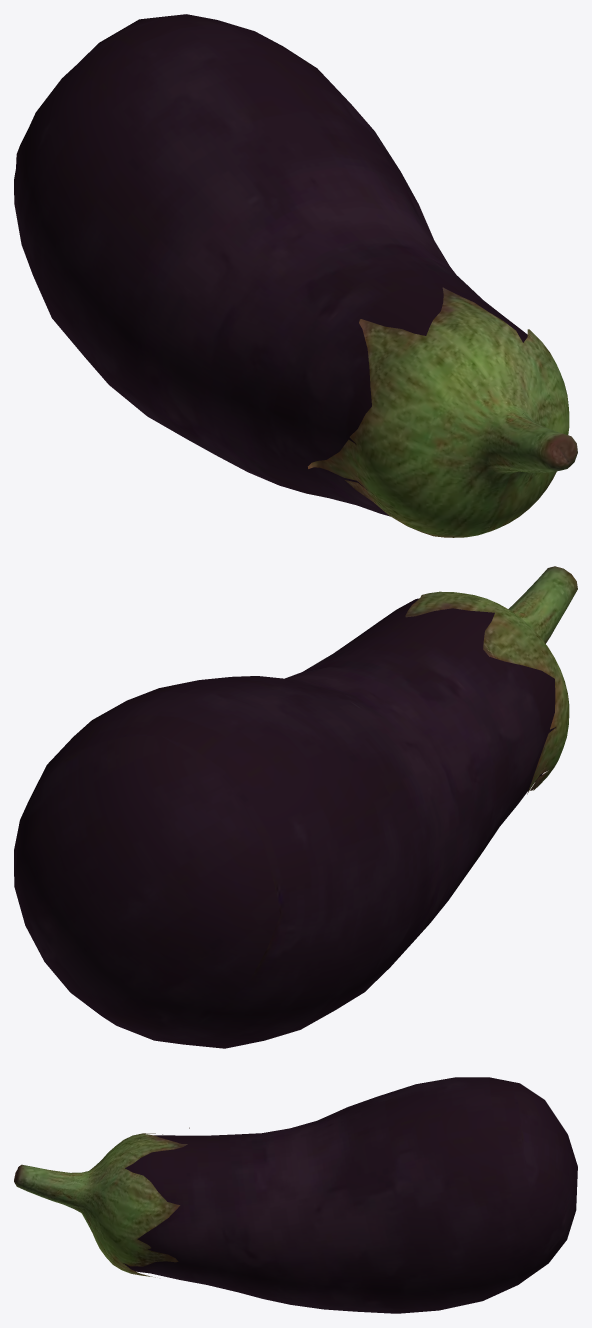
Rendered from brinjal.glb.
3 renders of one model, top to bottom at view 1: azimuth 30°, elevation 25°; view 2: azimuth 150°, elevation 25°; view 3: azimuth 270°, elevation 25°, orthographic. The views are drawn at different scales.
Parts seen in each view (by area): view 1: sm_food_produce_eggplant_a01_01; view 2: sm_food_produce_eggplant_a01_01; view 3: sm_food_produce_eggplant_a01_01.
Boxes of the visible parts, x1,y1,x2,y2 form: sm_food_produce_eggplant_a01_01: [14, 14, 577, 537]; sm_food_produce_eggplant_a01_01: [14, 566, 577, 1048]; sm_food_produce_eggplant_a01_01: [14, 1077, 577, 1313].
Bounding box in the file's own units: 0.106 × 0.1112 × 0.2617.
Materials: 1 (1 with a texture image).
